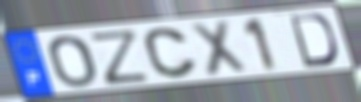1: (241, 15, 280, 73)
C: (141, 26, 200, 80)
D: (287, 12, 340, 69)
O: (46, 34, 99, 90)
X: (187, 18, 251, 79)
Z: (87, 28, 153, 88)
